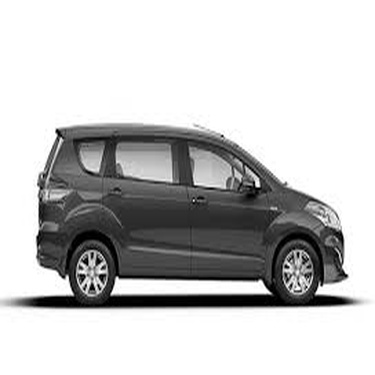car: (1, 120, 358, 324)
